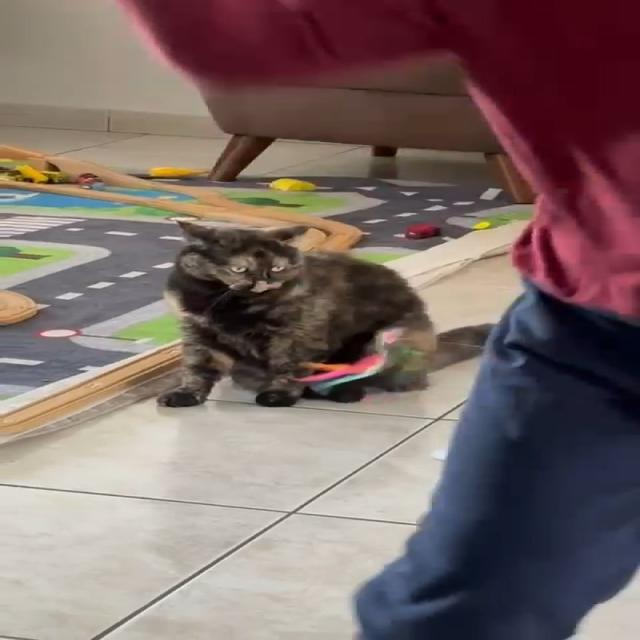authorized: (156, 219, 496, 407)
